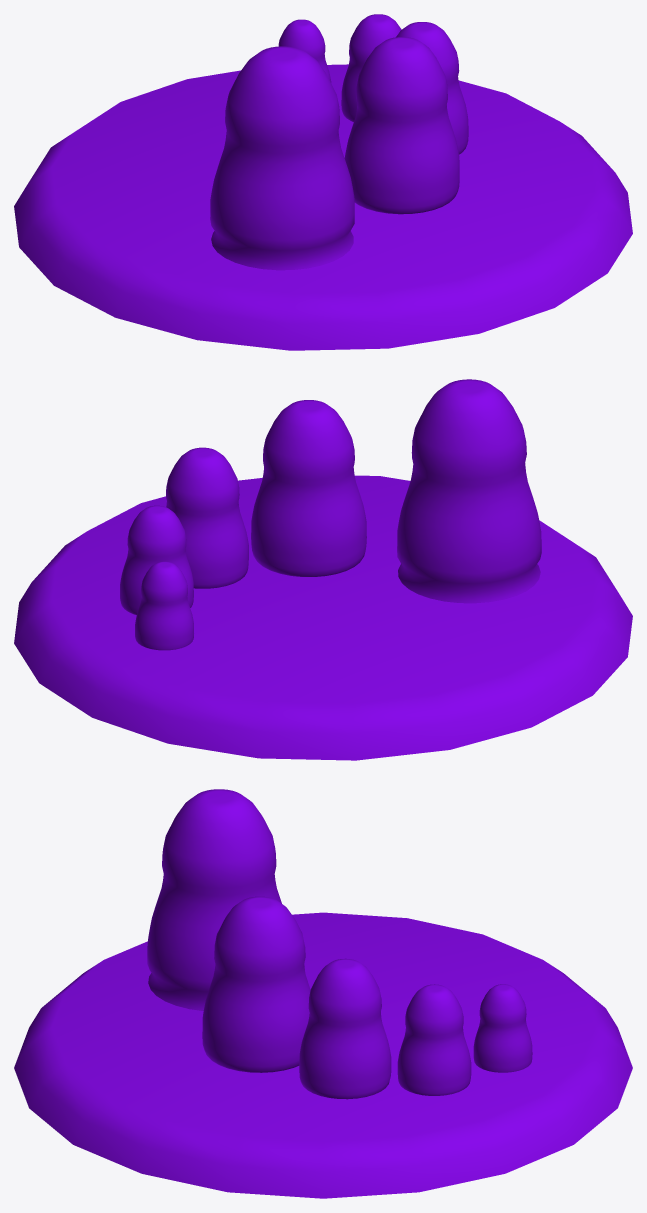
Rendered from Russian Doll FBX.fbx.
The picture shows the model from 3 angles, top to bottom: view 1: azimuth 30°, elevation 25°; view 2: azimuth 150°, elevation 25°; view 3: azimuth 270°, elevation 25°; orthographic projection.
Visible parts, largest first — view 1: Russian_Dolls; view 2: Russian_Dolls; view 3: Russian_Dolls.
Boxes of the visible parts, bbox=[...] form: Russian_Dolls: bbox=[14, 14, 632, 350]; Russian_Dolls: bbox=[14, 379, 632, 760]; Russian_Dolls: bbox=[14, 789, 632, 1198].
Size of the model in its own units: 10.46 by 4.21 by 10.46.
